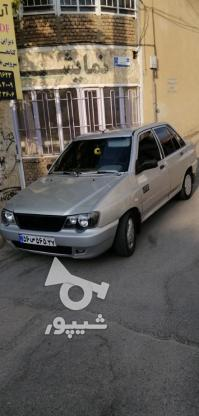car: (18, 232, 56, 245)
